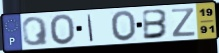B: (142, 8, 170, 41)
I: (86, 13, 95, 43)
O: (48, 14, 77, 47), (109, 10, 138, 43)
Q: (21, 16, 50, 48)
Z: (171, 7, 197, 38)
